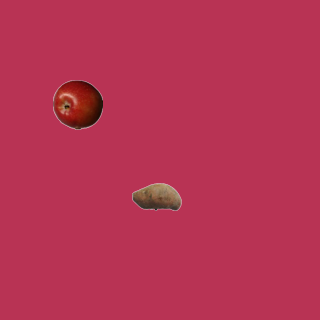Apple Braeburn: (52, 79, 102, 129)
Potato Sweet: (131, 171, 181, 221)
